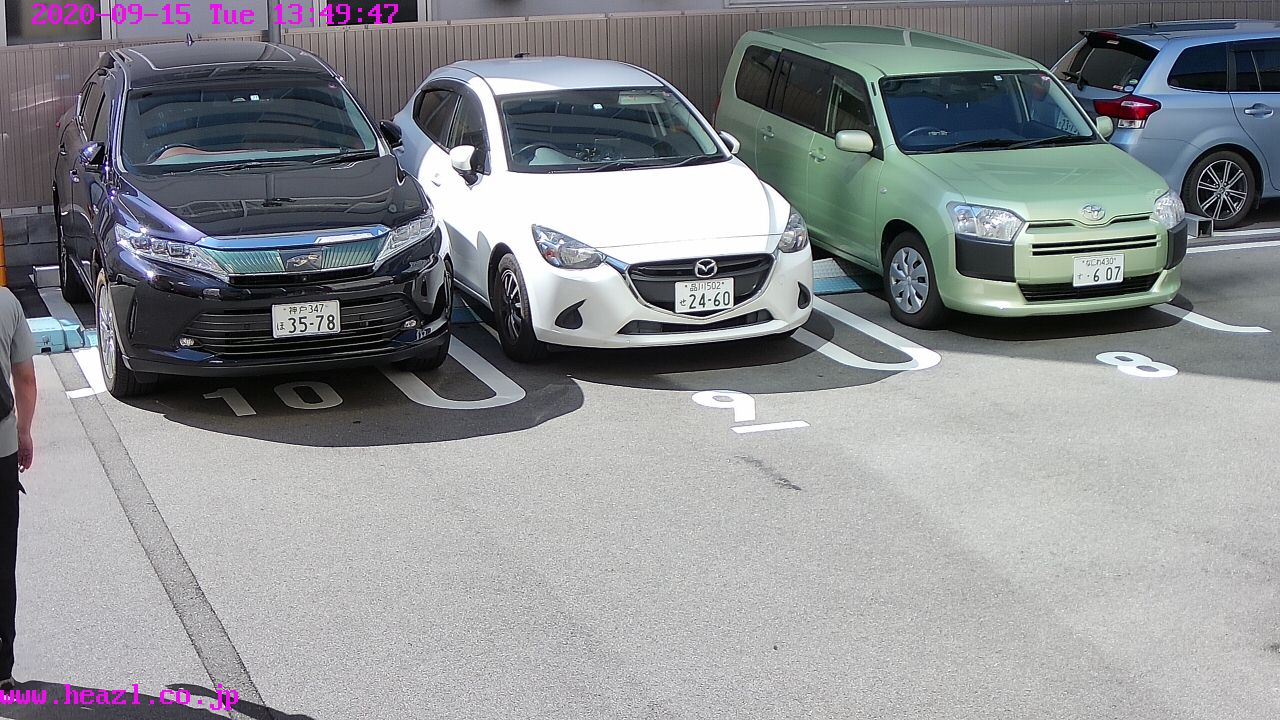number_plate: (273, 304, 341, 335), (677, 281, 736, 312), (1070, 252, 1127, 284)
